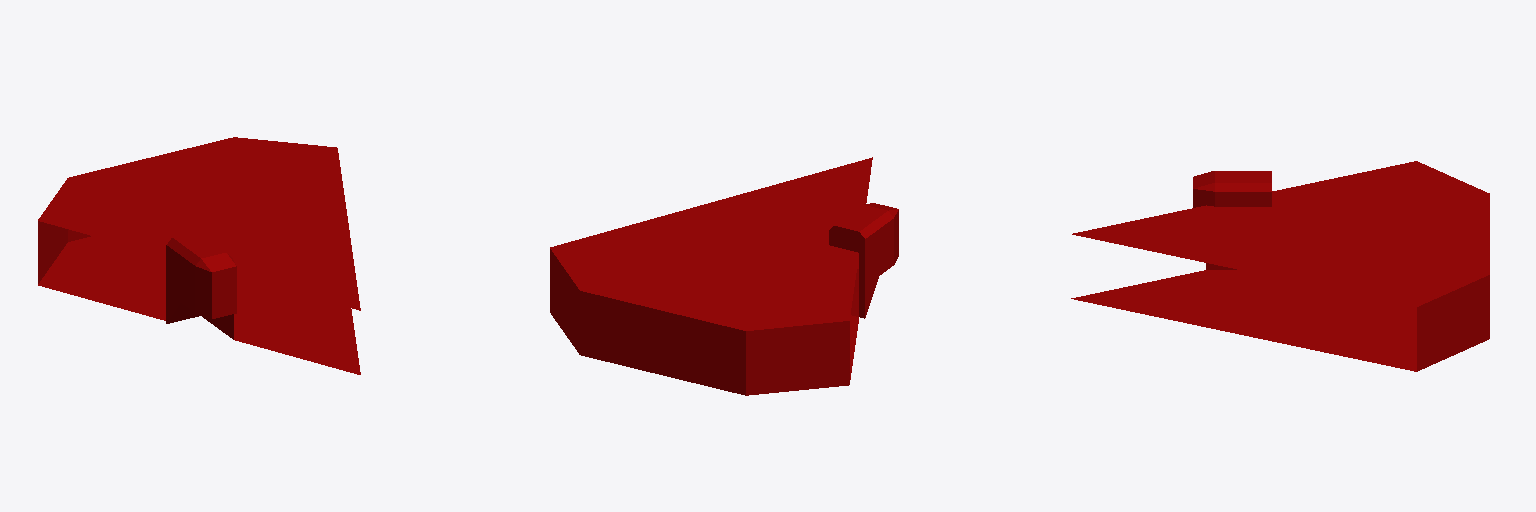
File: Arrowhead_Inside_Mesh.obj
The picture shows the model from 3 angles: view 1: azimuth 30°, elevation 25°; view 2: azimuth 150°, elevation 25°; view 3: azimuth 270°, elevation 25°; orthographic projection.
Parts seen in each view (by area): view 1: Inside_Cube.003; view 2: Inside_Cube.003; view 3: Inside_Cube.003.
Boxes of the visible parts, box(x1,y1,x2,y2) form: Inside_Cube.003: box(38, 137, 360, 374); Inside_Cube.003: box(550, 157, 898, 395); Inside_Cube.003: box(1071, 161, 1489, 371).
Bounding box in the file's own units: 9 × 2.45 × 10.9.